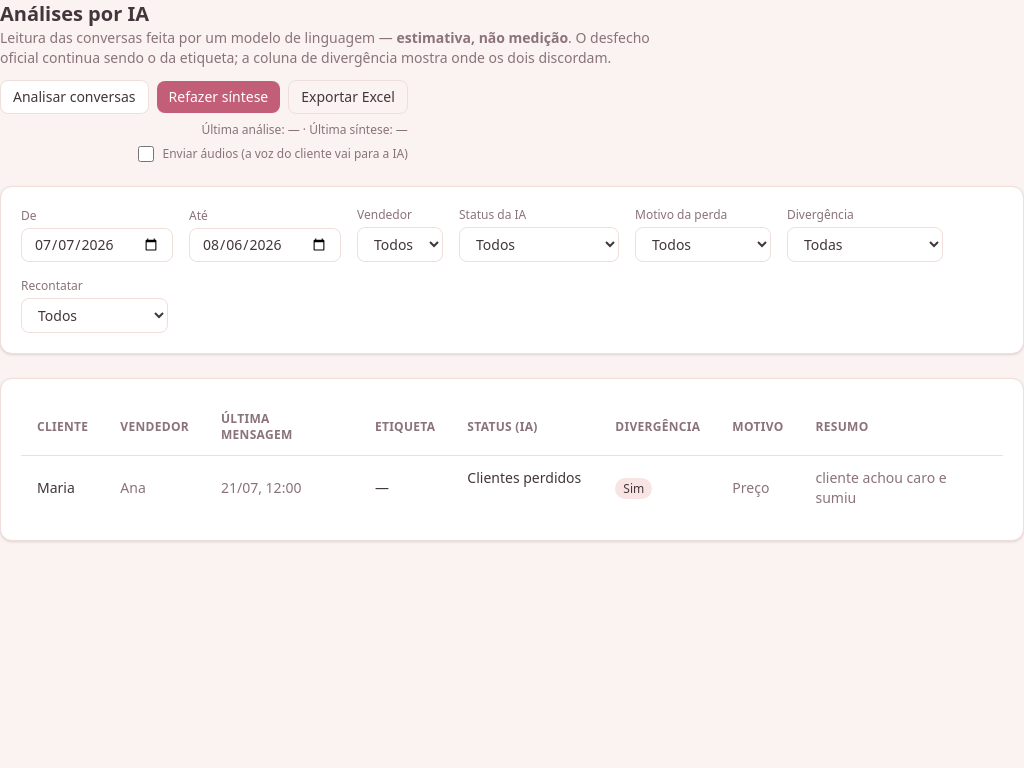
it: AiAnalysisPage › mostra o custo e confirma que a rodada começou
Expected: the table with test id "analyses-table" is shown, [21,399,1003,520]
Click the button "Analisar conversas": x=74, y=97 [0,80,149,114]
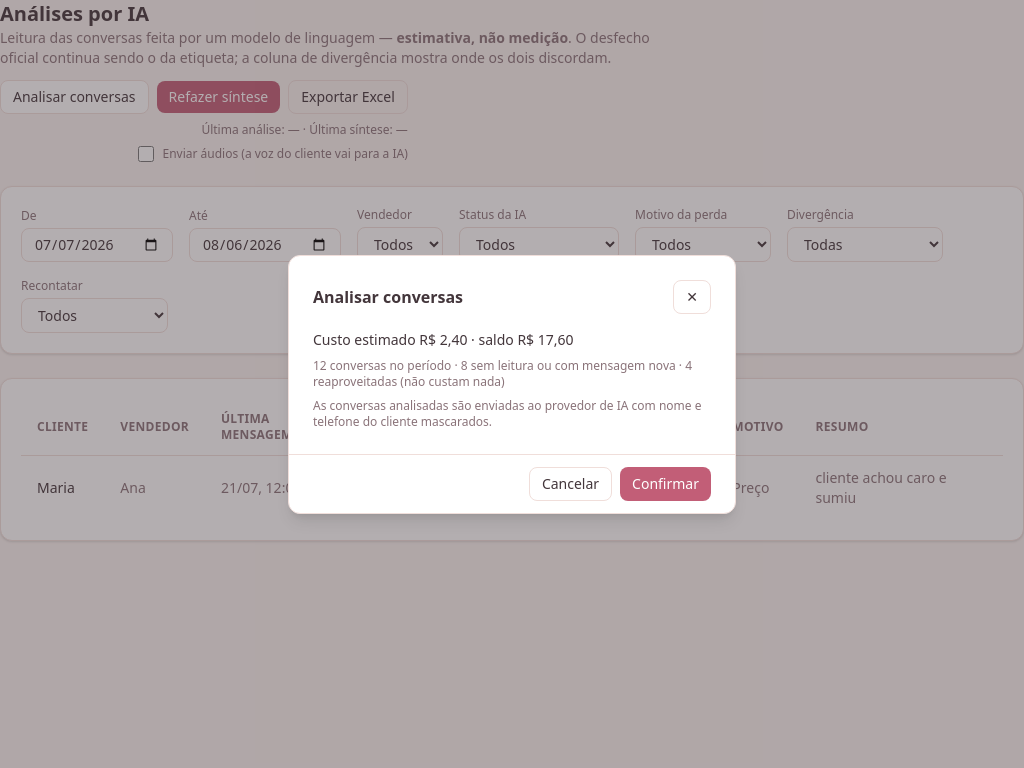
Result: the element with test id "ai-estimate" shows "Custo estimado R$ 2,40" at [313,330,711,430]
Result: the element with test id "ai-estimate" shows "saldo R$ 17,60" at [313,330,711,430]
Result: the element with test id "ai-estimate" shows "8 sem leitura ou com mensagem nova" at [313,356,692,390]
Click the button "Confirmar": x=666, y=484 [620,466,711,500]
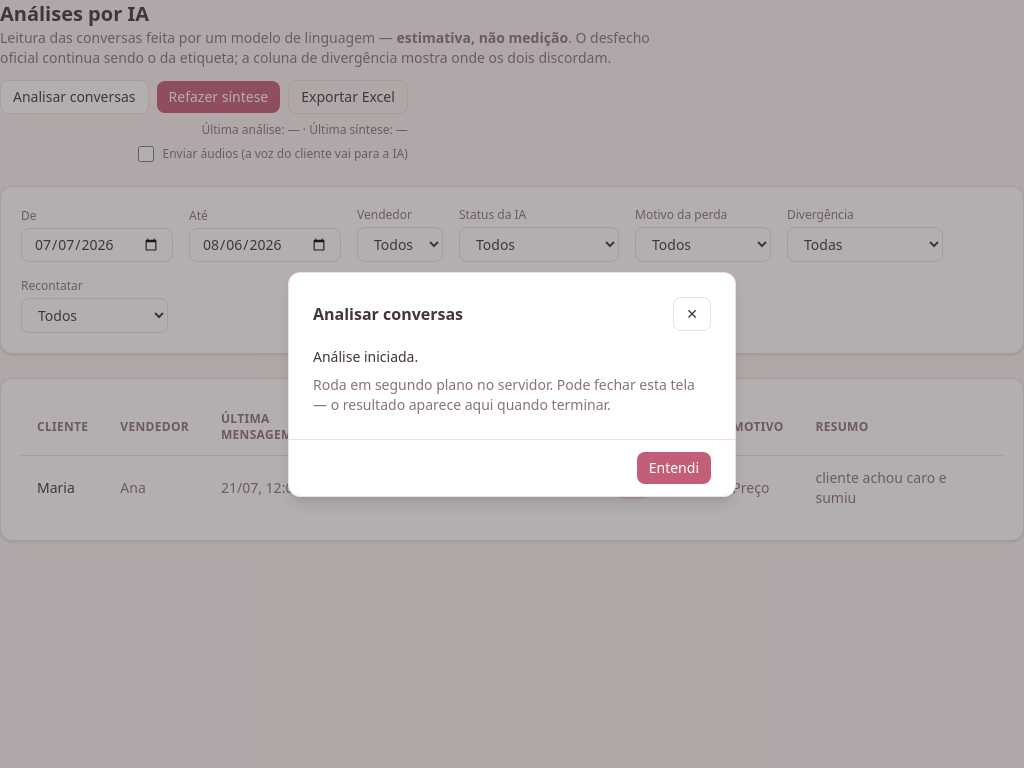
Result: the element with test id "ai-started" shows "Análise iniciada." at [313,346,418,366]
Result: the element with test id "ai-started" shows "Pode fechar esta tela" at [313,374,695,414]
